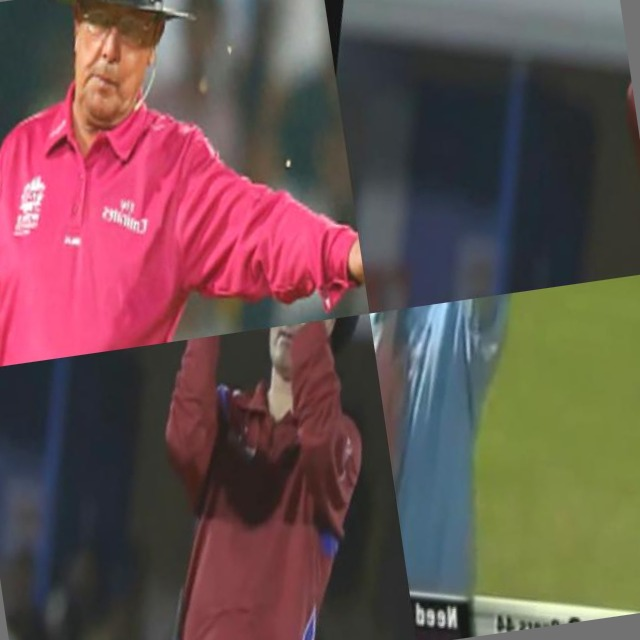No_Ball: (0, 0, 370, 371)
Out: (370, 282, 635, 640)
Six: (47, 314, 417, 640), (479, 0, 640, 291)
